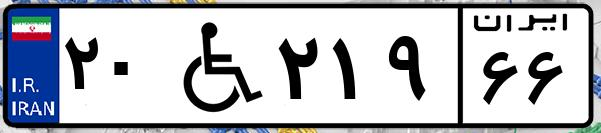0: (110, 28, 158, 98)
1: (330, 28, 385, 110)
2: (270, 28, 330, 110), (57, 26, 110, 100)
6: (475, 38, 525, 113), (525, 38, 570, 115)
9: (385, 28, 445, 110)
ژ (معلولین و جانبازان): (158, 12, 270, 120)
